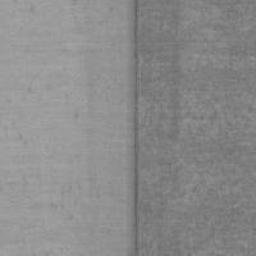Welding line: (131, 0, 140, 256)
